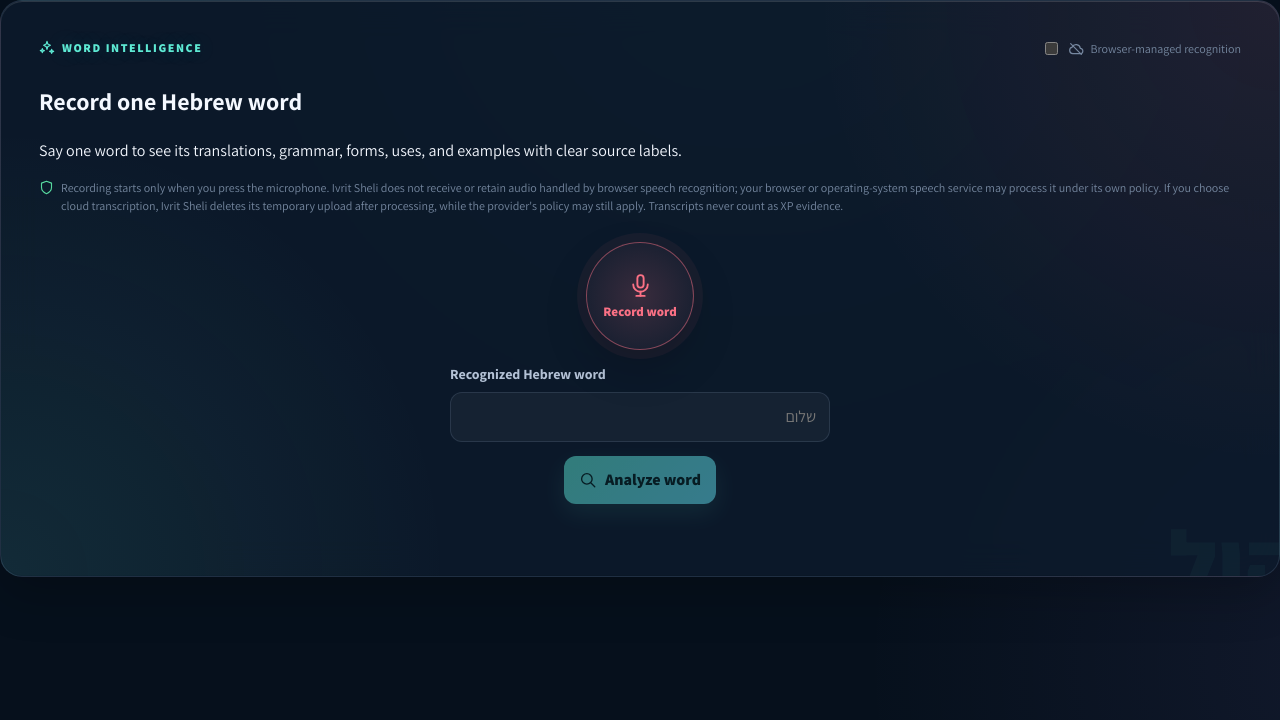
Test: MicWordAnalyzer › cleans up recorder errors without transcribing partial audio
The image size is (1280, 720).
Click the checkbox labelled "Browser-managed recognition" at (1051, 48), box [1045, 42, 1058, 55]
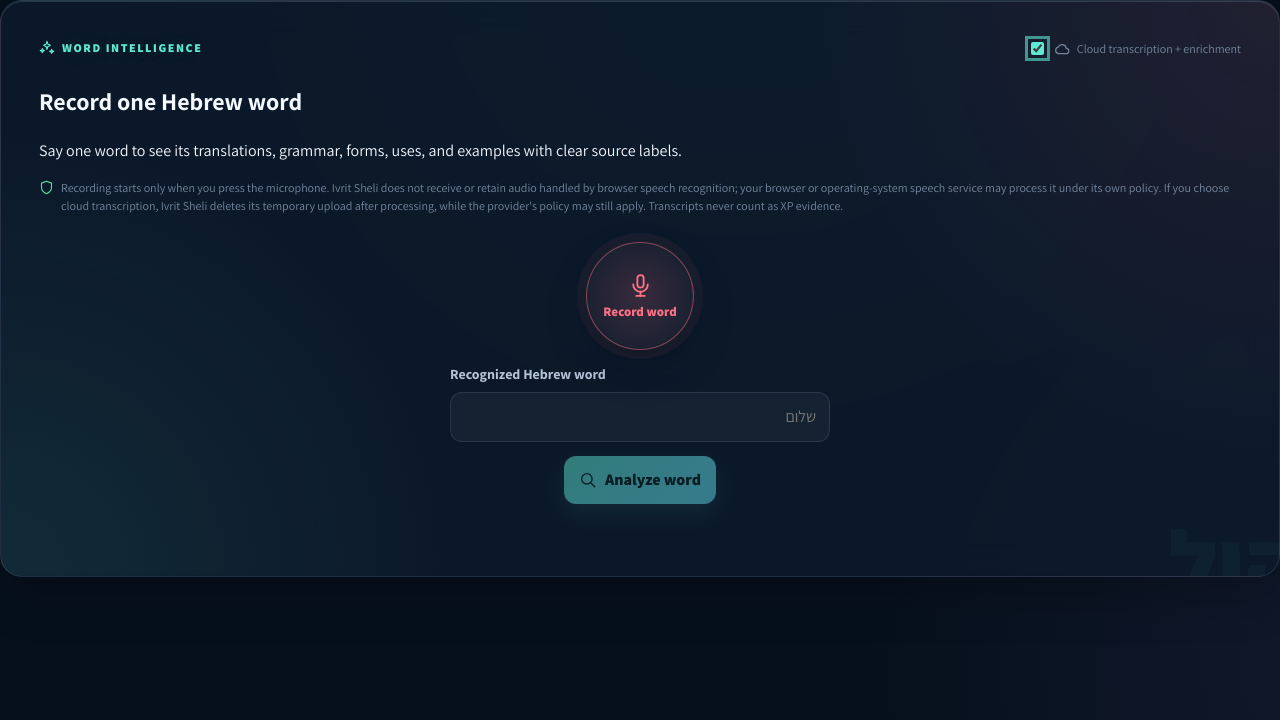
Click the button "Record word" at (640, 296), box [586, 242, 694, 350]
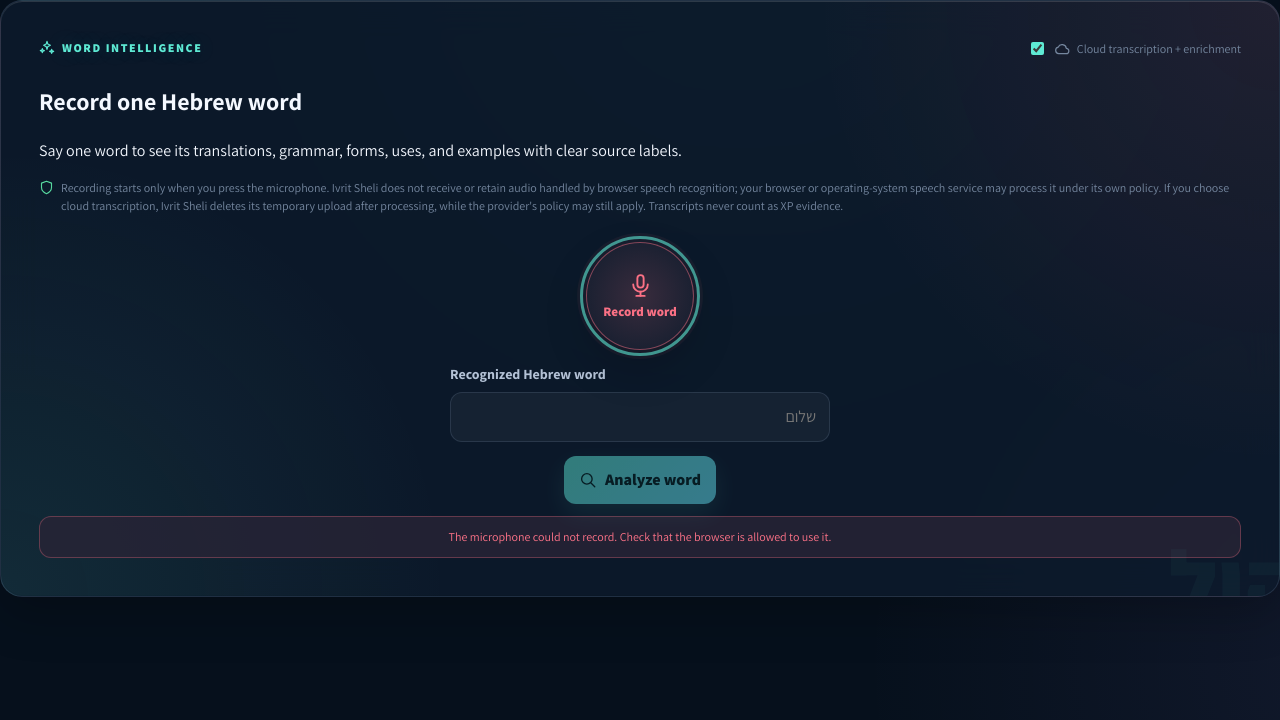
Expected: the text "The microphone could not record. Check that the browser is allowed to use it." is shown, [39, 516, 1241, 558]
